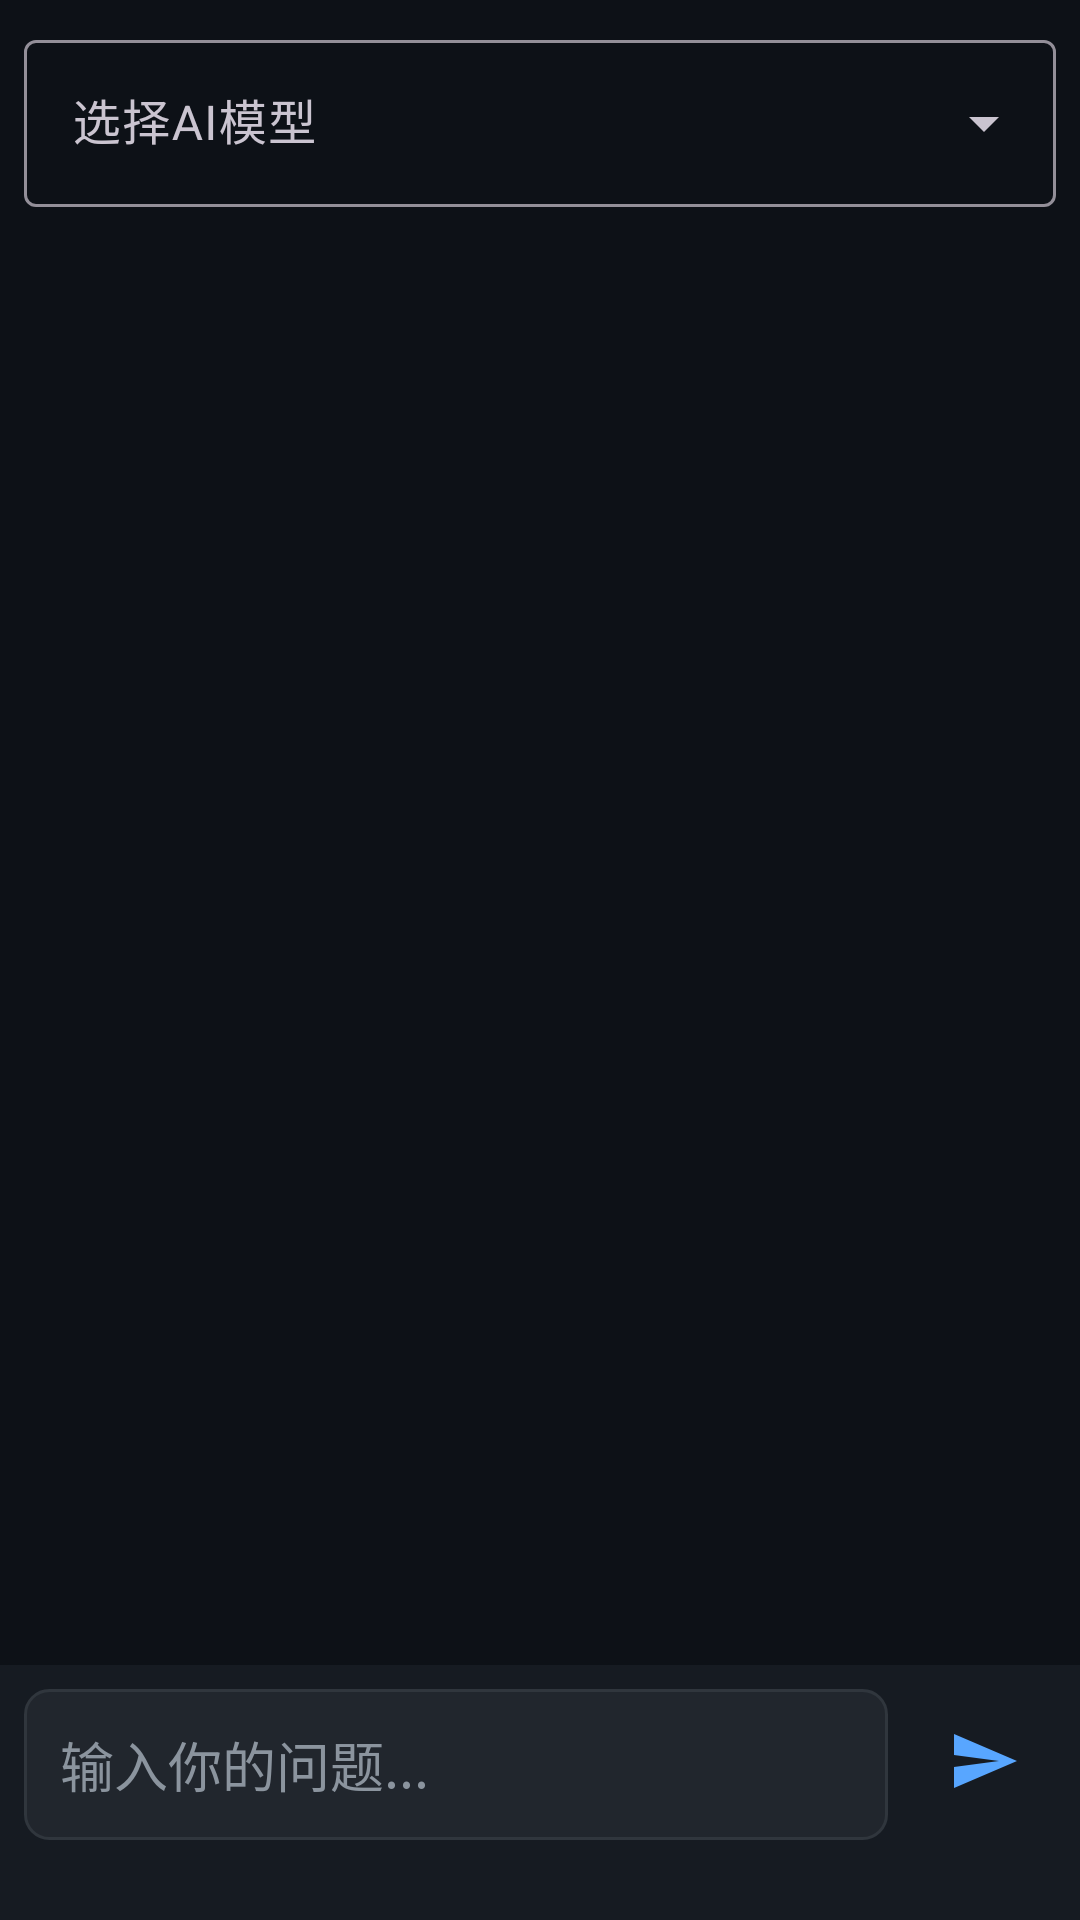

Named icons in this screenshot (1080*1920) and their bounding boxes, [left=x1, top=y1, right=x2, bottom=y2]:
发送: [left=954, top=1734, right=1017, bottom=1788]
